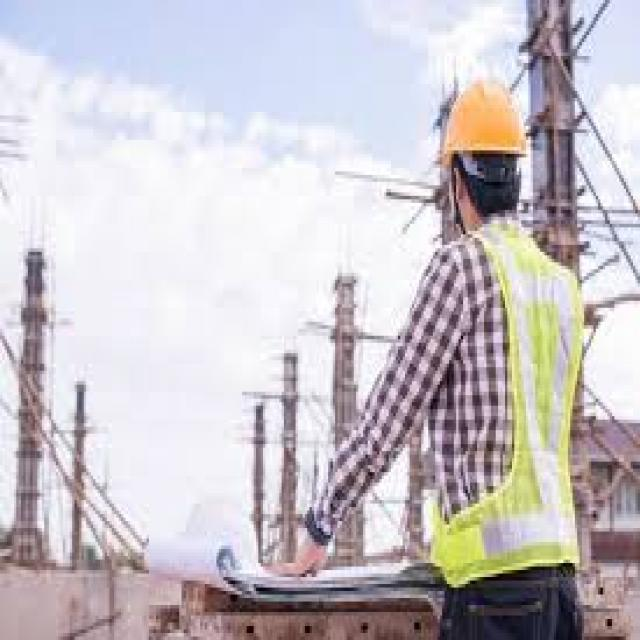Reflective-Jacket: (414, 217, 600, 598)
Safety-Helmet: (424, 63, 544, 182)
